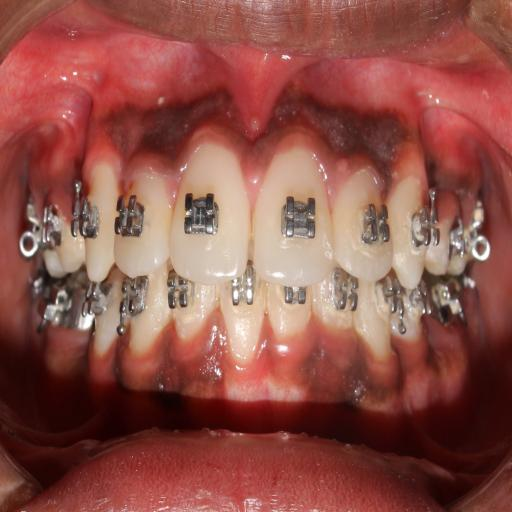correct_brace: (277, 189, 321, 247), (180, 185, 223, 241), (110, 189, 148, 245), (358, 198, 392, 250)
incorrect_brace: (336, 166, 397, 286), (110, 154, 168, 280)
